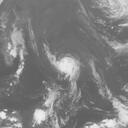cyclone: (54, 58, 81, 80)
